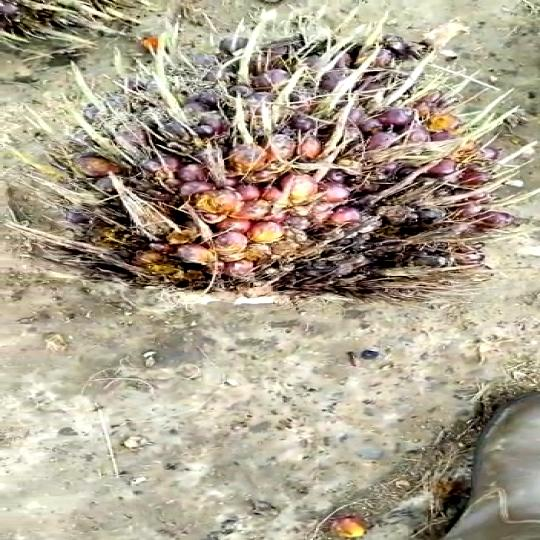masak: (32, 14, 531, 330)
